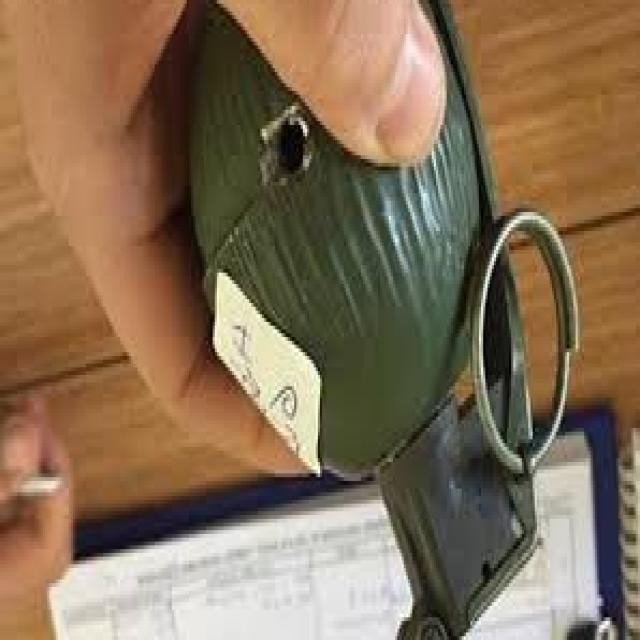grenade: (179, 1, 586, 640)
